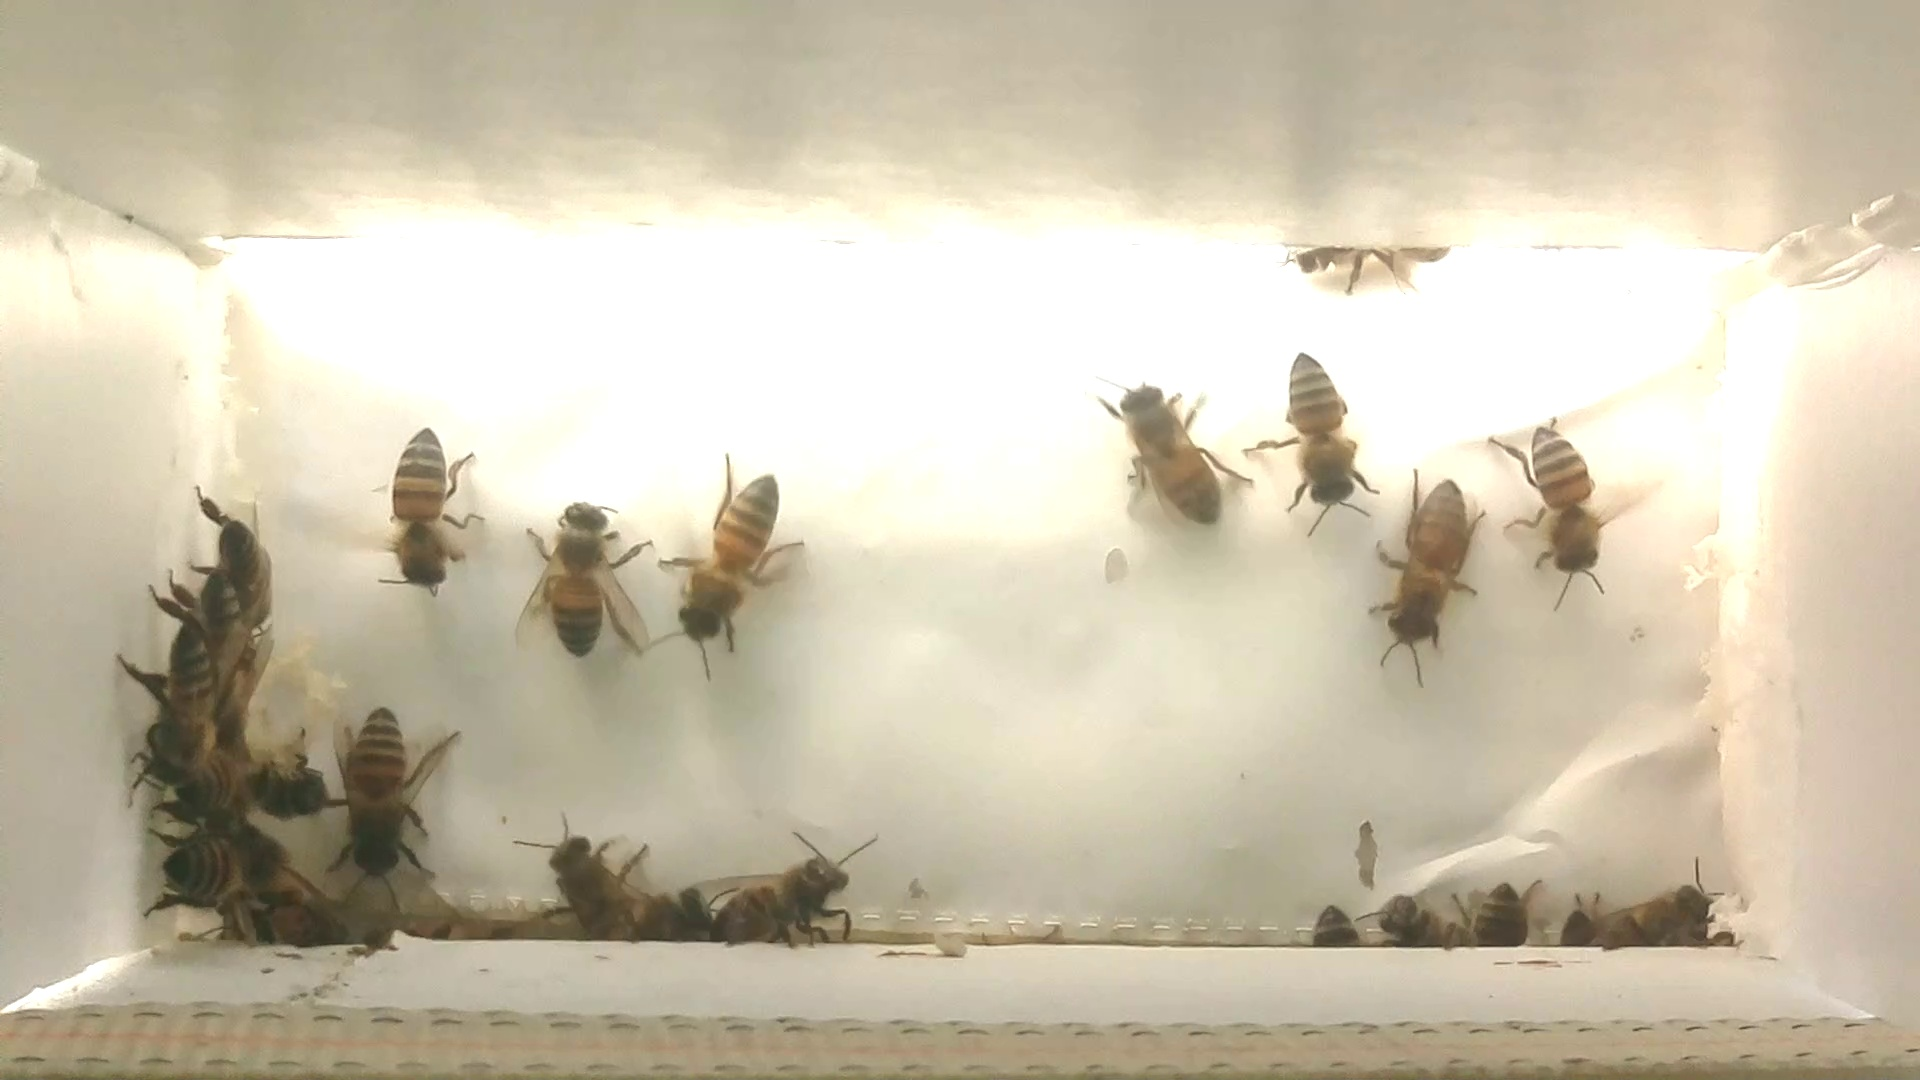bee: (628, 436, 816, 683), (1480, 404, 1656, 608), (1077, 361, 1261, 539), (1245, 326, 1389, 535), (315, 700, 462, 906), (1364, 455, 1490, 688), (506, 484, 655, 678), (356, 415, 496, 605), (702, 818, 876, 965), (500, 804, 647, 953), (113, 615, 229, 803), (189, 489, 289, 624), (1280, 228, 1465, 301), (141, 804, 251, 916), (173, 568, 272, 691), (1604, 858, 1721, 959), (218, 741, 334, 836), (1444, 869, 1551, 968), (626, 874, 731, 959), (1364, 880, 1470, 960), (160, 745, 243, 820), (1294, 894, 1369, 965)
